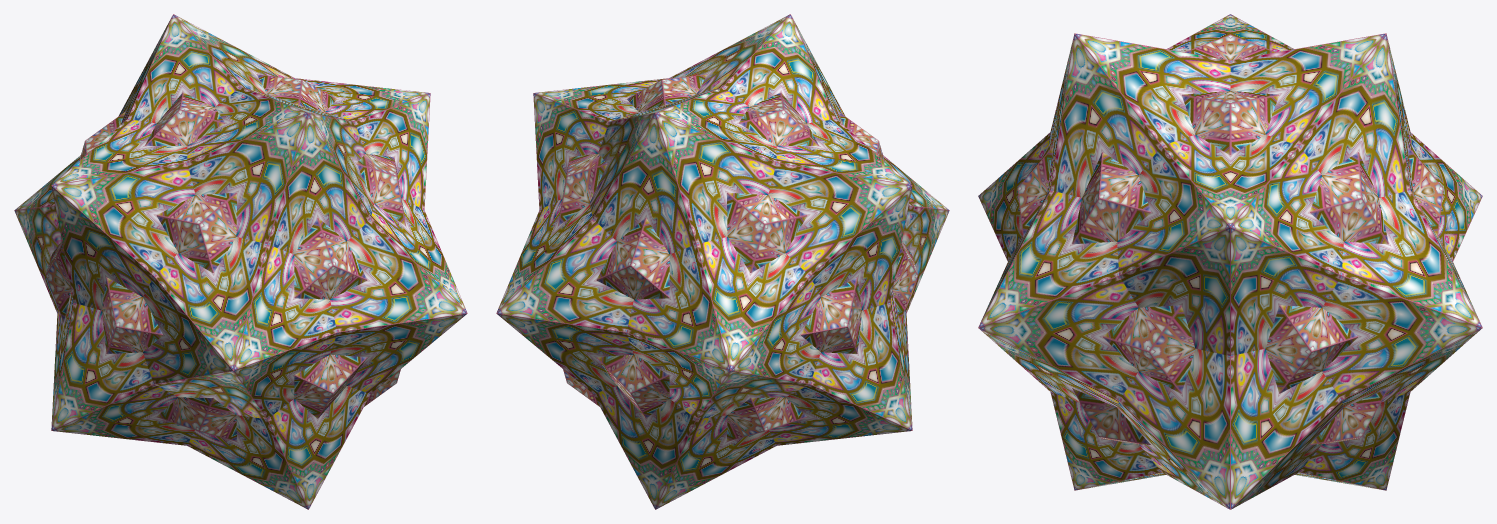
Rendered from 6GreatDitrigonalDodecacronicHexecontahedron.obj.
3 renders of one model, left to right at view 1: azimuth 30°, elevation 25°; view 2: azimuth 150°, elevation 25°; view 3: azimuth 270°, elevation 25°, orthographic. The views are drawn at different scales.
Size of the model in its own units: 2.35 by 2.35 by 2.35.
Materials: 1 (1 with a texture image).
